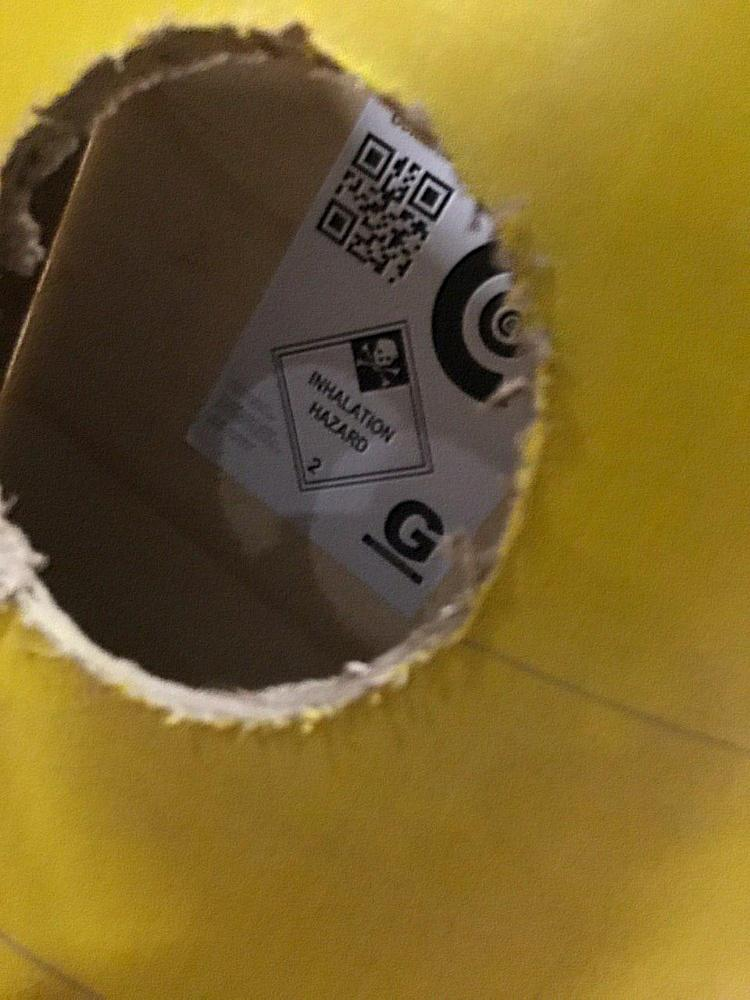poison: (273, 326, 431, 492)
